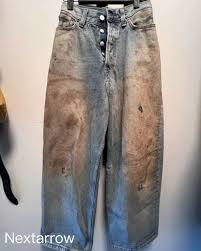earth: (129, 65, 156, 177), (46, 79, 80, 156)
